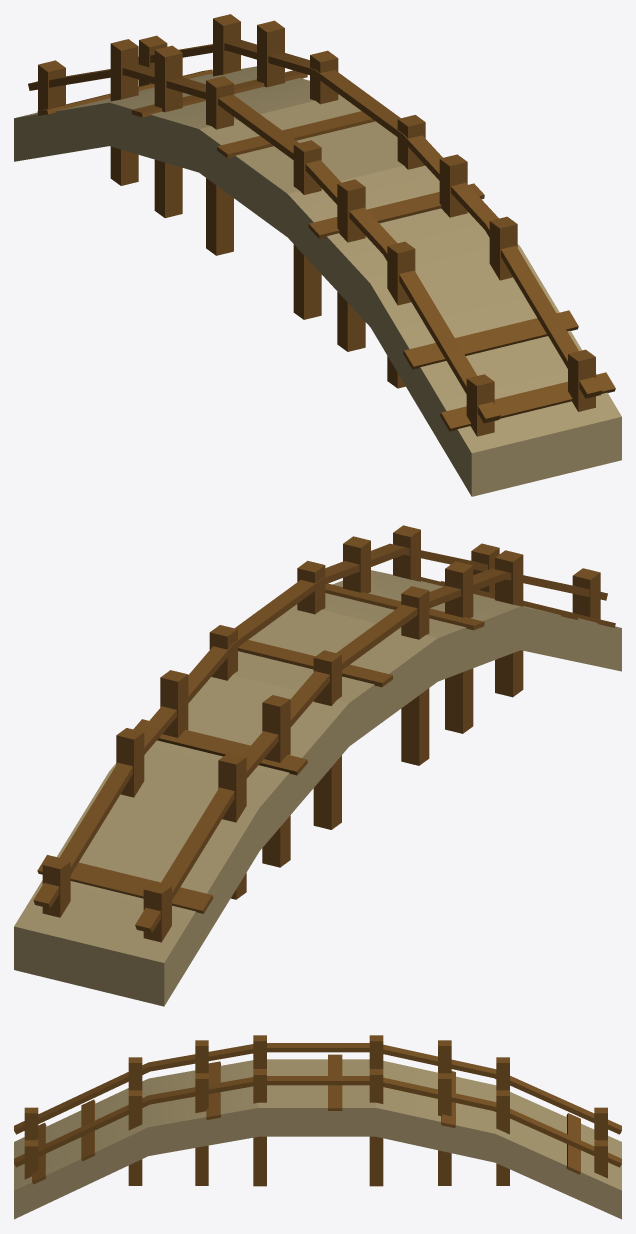
Rendered from bridge.fbx.
The picture shows the model from 3 angles, top to bottom: view 1: azimuth 30°, elevation 25°; view 2: azimuth 150°, elevation 25°; view 3: azimuth 270°, elevation 25°; orthographic projection. The views are drawn at different scales.
Parts seen in each view (by area): view 1: Cube125; view 2: Cube125; view 3: Cube125.
Part boxes in pixels (box(x1,y1,x2,y2)): Cube125: box(14, 14, 621, 496); Cube125: box(14, 525, 621, 1006); Cube125: box(14, 1035, 621, 1219).
Bounding box in the file's own units: 1856 × 2254 × 8908.
